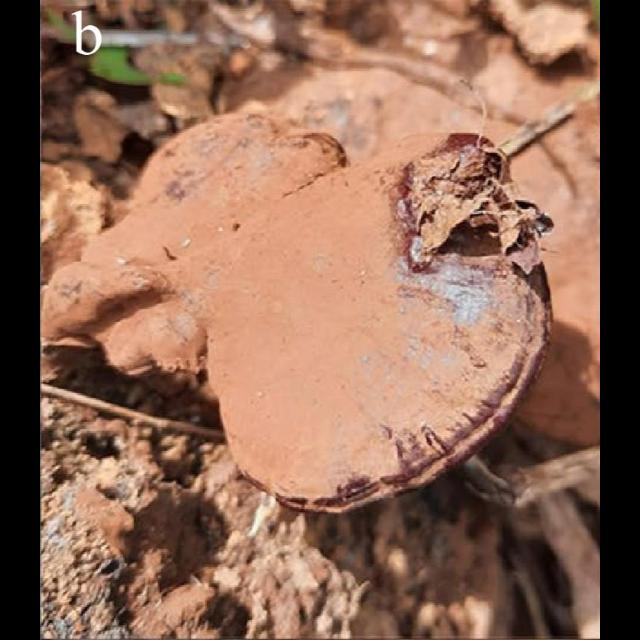ganoderma: (101, 108, 558, 521)
